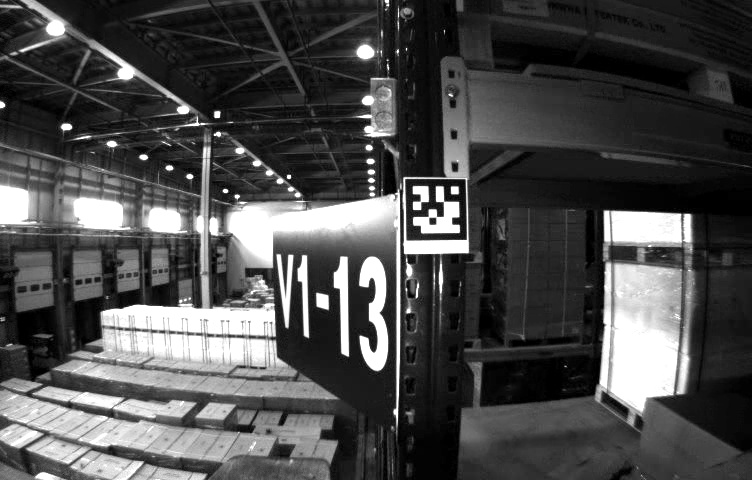True Barcode: (504, 1, 550, 17)
